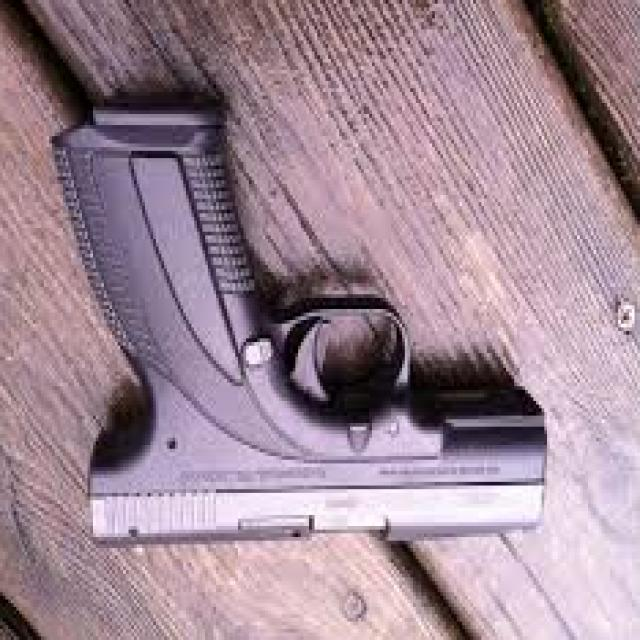Gun: (59, 67, 544, 579)
